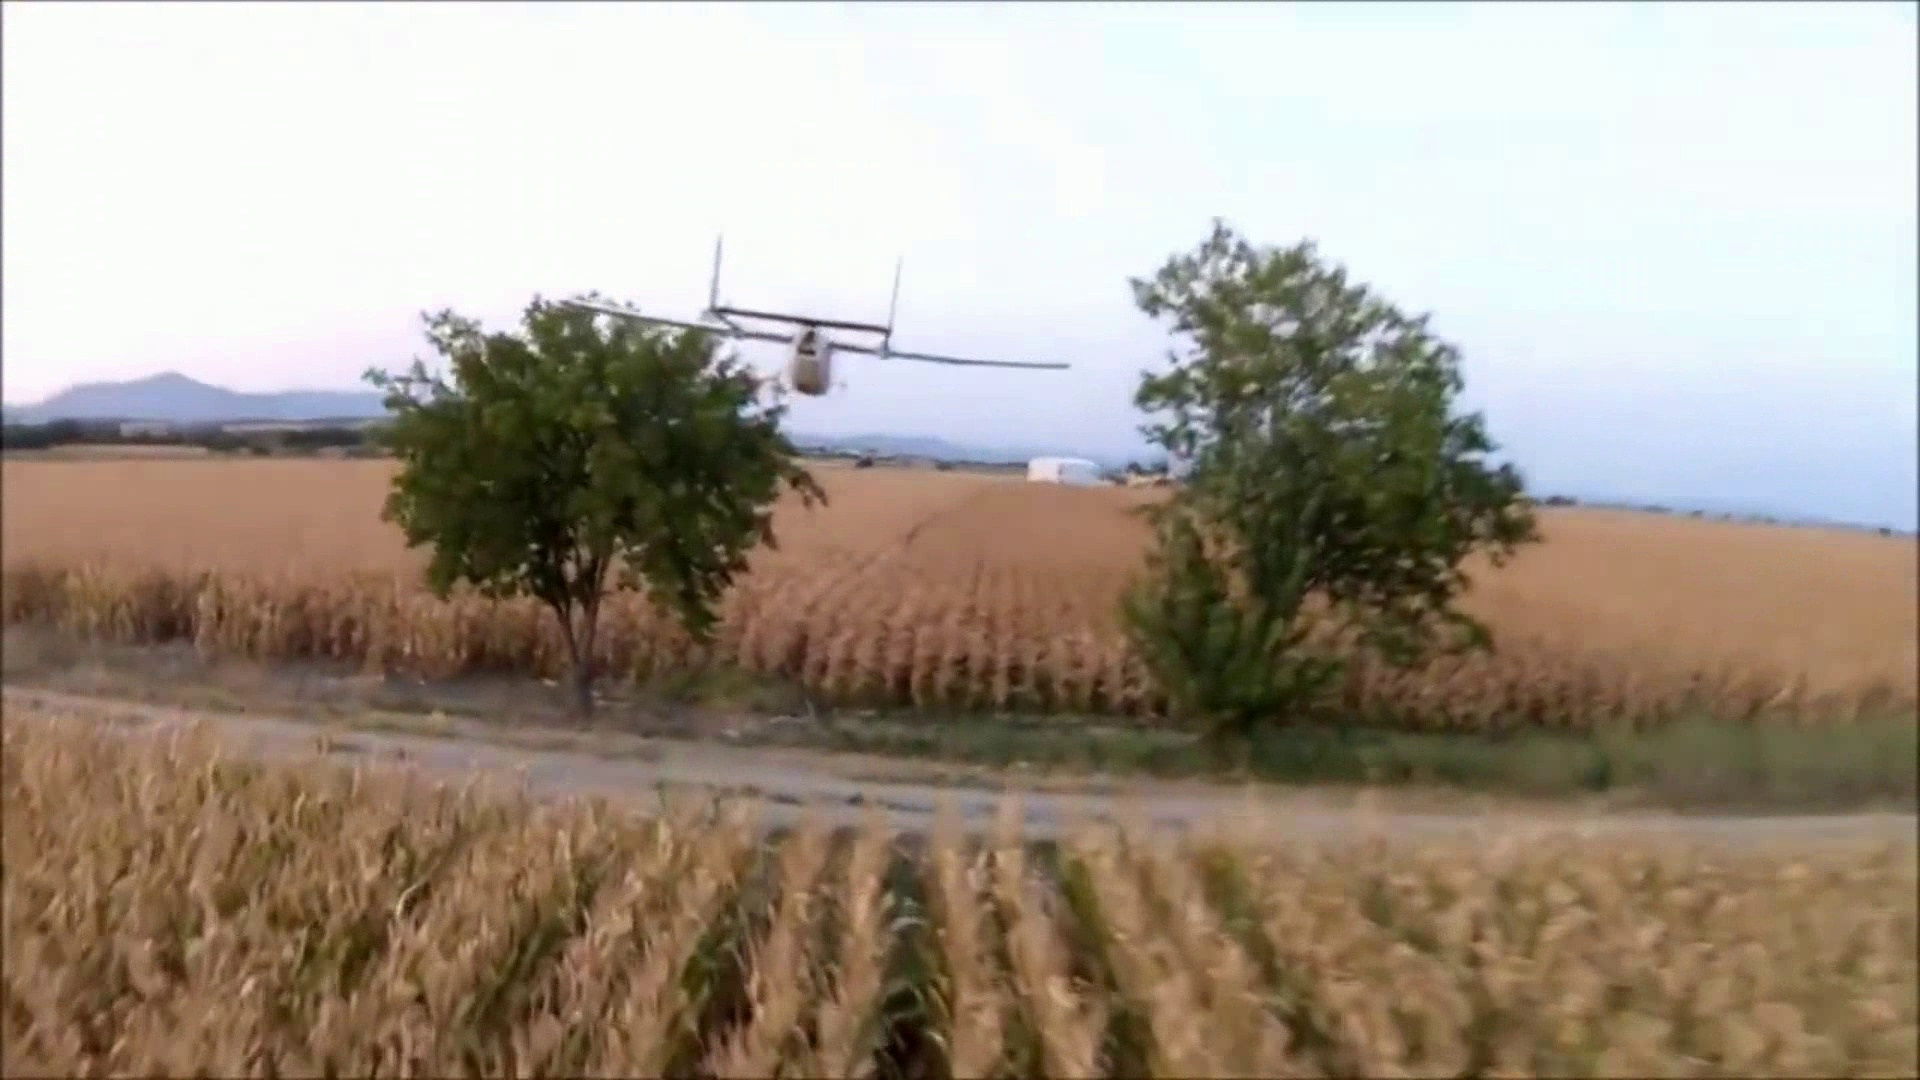airplane: (589, 231, 1139, 463), (589, 229, 1071, 403)
